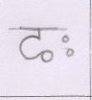anusvara: (62, 36, 69, 43)
